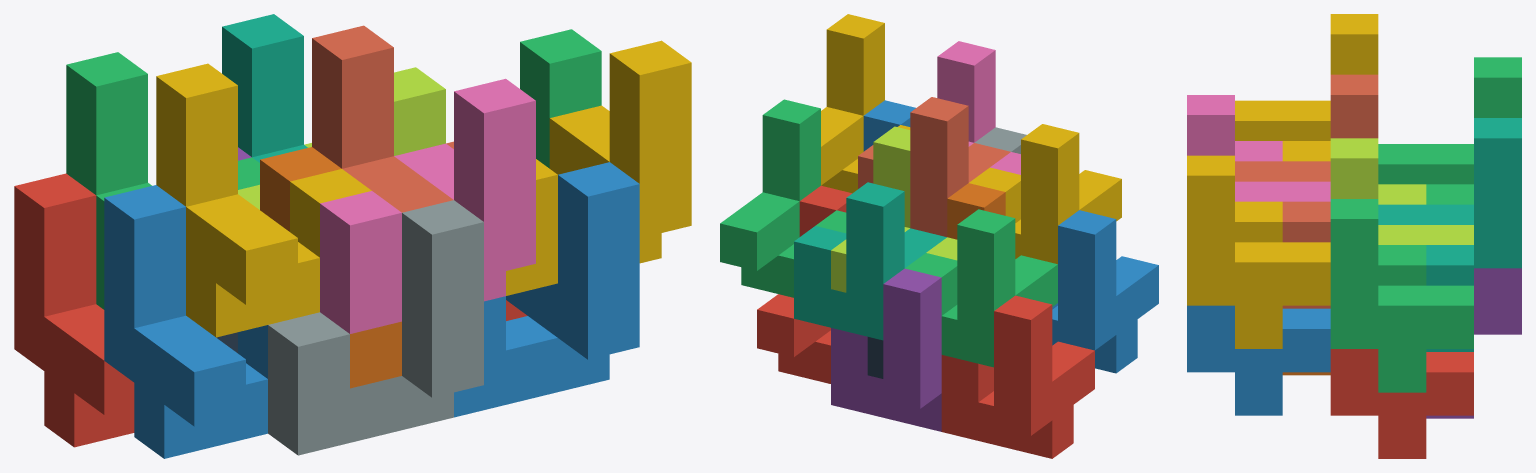
Rendered from tiling.obj.
3 views of the same model, side by side, from view 1: azimuth 30°, elevation 25°; view 2: azimuth 150°, elevation 25°; view 3: azimuth 270°, elevation 25° (orthographic). The views are drawn at different scales.
Visible parts, largest first — view 1: copy_2_domain_2, copy_1_domain_4, copy_1_domain_2, copy_2_domain_4, copy_2_domain_6, copy_1_domain_1, copy_2_domain_8, copy_1_domain_8, copy_1_domain_3, copy_1_domain_7, copy_2_domain_7, copy_1_domain_6 (+1 smaller); view 2: copy_1_domain_1, copy_1_domain_7, copy_1_domain_5, copy_2_domain_7, copy_1_domain_2, copy_1_domain_3, copy_1_domain_4, copy_2_domain_8, copy_1_domain_8, copy_2_domain_5, copy_2_domain_4, copy_2_domain_3 (+4 smaller); view 3: copy_2_domain_7, copy_2_domain_8, copy_1_domain_7, copy_2_domain_6, copy_2_domain_5, copy_1_domain_4, copy_1_domain_3, copy_1_domain_8, copy_2_domain_4, copy_2_domain_3, copy_1_domain_5.
Boxes of the visible parts, x1,y1,x2,y2 form: copy_2_domain_2: [268, 200, 483, 455]; copy_1_domain_4: [156, 63, 371, 337]; copy_1_domain_2: [104, 185, 267, 458]; copy_2_domain_4: [320, 78, 535, 333]; copy_2_domain_6: [454, 162, 639, 417]; copy_1_domain_1: [14, 173, 134, 447]; copy_2_domain_8: [506, 40, 691, 295]; copy_1_domain_8: [312, 25, 453, 212]; copy_1_domain_3: [66, 52, 259, 309]; copy_1_domain_7: [222, 14, 307, 162]; copy_2_domain_7: [520, 29, 601, 168]; copy_1_domain_6: [260, 147, 401, 388]; copy_1_domain_1: [941, 295, 1094, 458]; copy_1_domain_7: [794, 182, 946, 340]; copy_1_domain_5: [831, 268, 941, 431]; copy_2_domain_7: [720, 99, 846, 297]; copy_1_domain_2: [1052, 210, 1158, 373]; copy_1_domain_3: [905, 209, 1057, 367]; copy_1_domain_4: [969, 124, 1121, 264]; copy_2_domain_8: [821, 14, 910, 193]; copy_1_domain_8: [858, 97, 1010, 236]; copy_2_domain_5: [757, 185, 851, 383]; copy_2_domain_4: [937, 41, 1020, 174]; copy_2_domain_3: [831, 126, 957, 292]; copy_2_domain_7: [1330, 199, 1473, 392]; copy_2_domain_8: [1187, 155, 1330, 348]; copy_1_domain_7: [1378, 118, 1521, 351]; copy_2_domain_6: [1187, 305, 1330, 415]; copy_2_domain_5: [1330, 349, 1473, 458]; copy_1_domain_4: [1235, 14, 1378, 161]; copy_1_domain_3: [1378, 57, 1521, 204]; copy_1_domain_8: [1235, 74, 1378, 308]; copy_2_domain_4: [1187, 95, 1330, 201]; copy_2_domain_3: [1330, 138, 1473, 244]; copy_1_domain_5: [1426, 268, 1521, 418].
Size of the model in its own units: 9 by 7 by 7.
